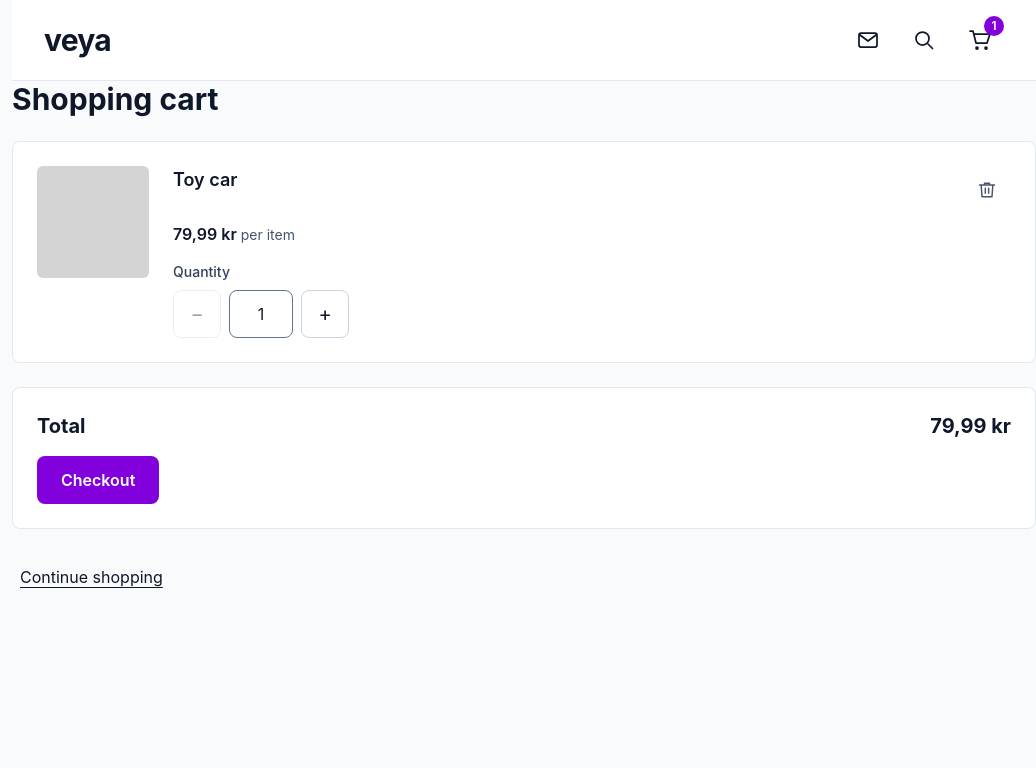
Test: updates the discounted total and header count when quantity changes or an item is removed
Step 1. Click the button named "Increase quantity for Toy car" → point(325, 314), box x1=301 y1=290 x2=349 y2=338
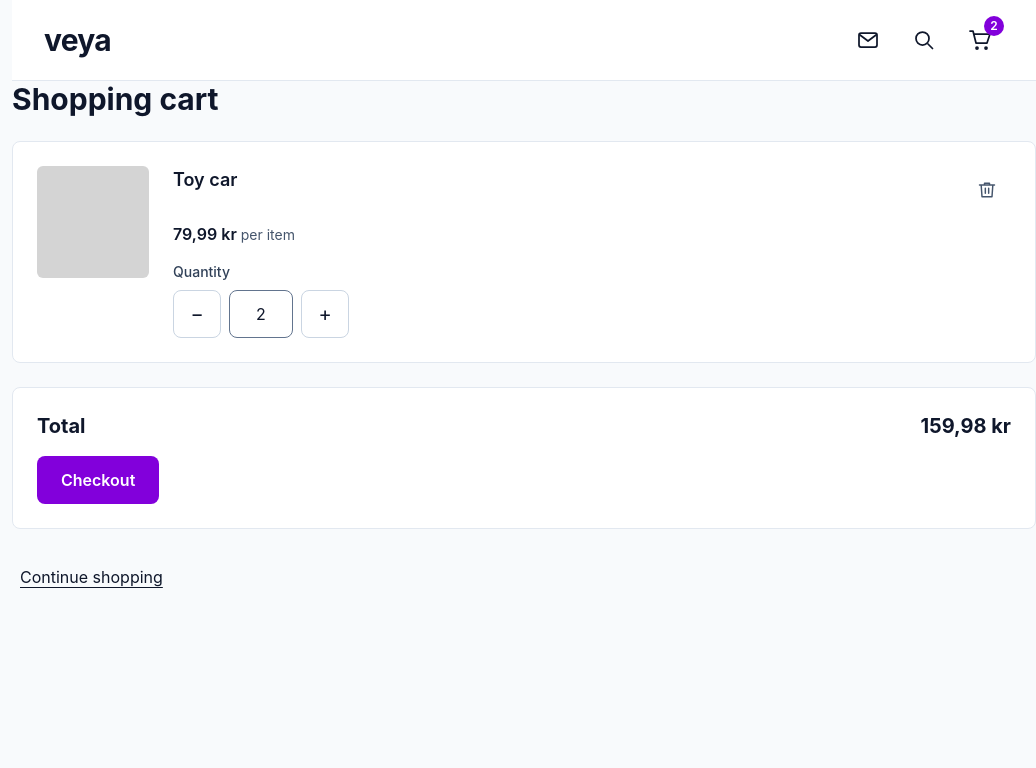
Check: the link named "View cart, 2 items" reads "2", box x1=968 y1=16 x2=1004 y2=52
Check: the text "159,98 kr" is shown, box x1=921 y1=412 x2=1011 y2=440
Step 2. Click the button named "Decrease quantity for Toy car" → point(197, 314), box x1=173 y1=290 x2=221 y2=338
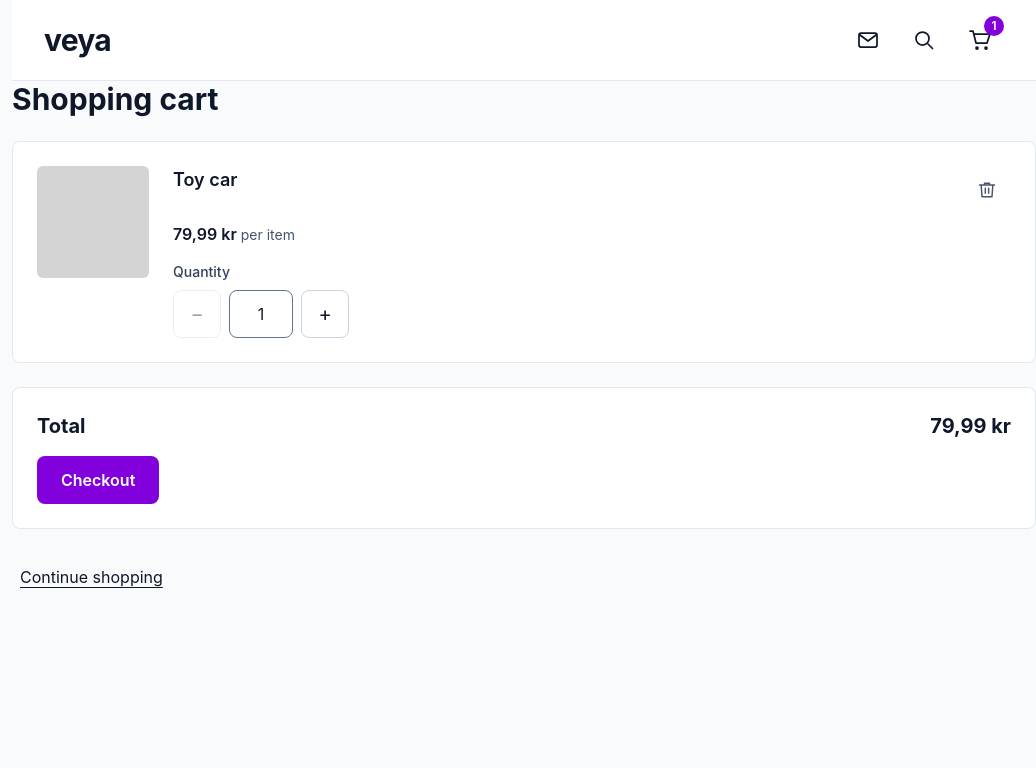
Check: the link named "View cart, 1 item" is shown, box x1=968 y1=16 x2=1004 y2=52
Step 3. Click the button named "Remove Toy car from cart" → point(987, 190), box x1=963 y1=166 x2=1011 y2=214
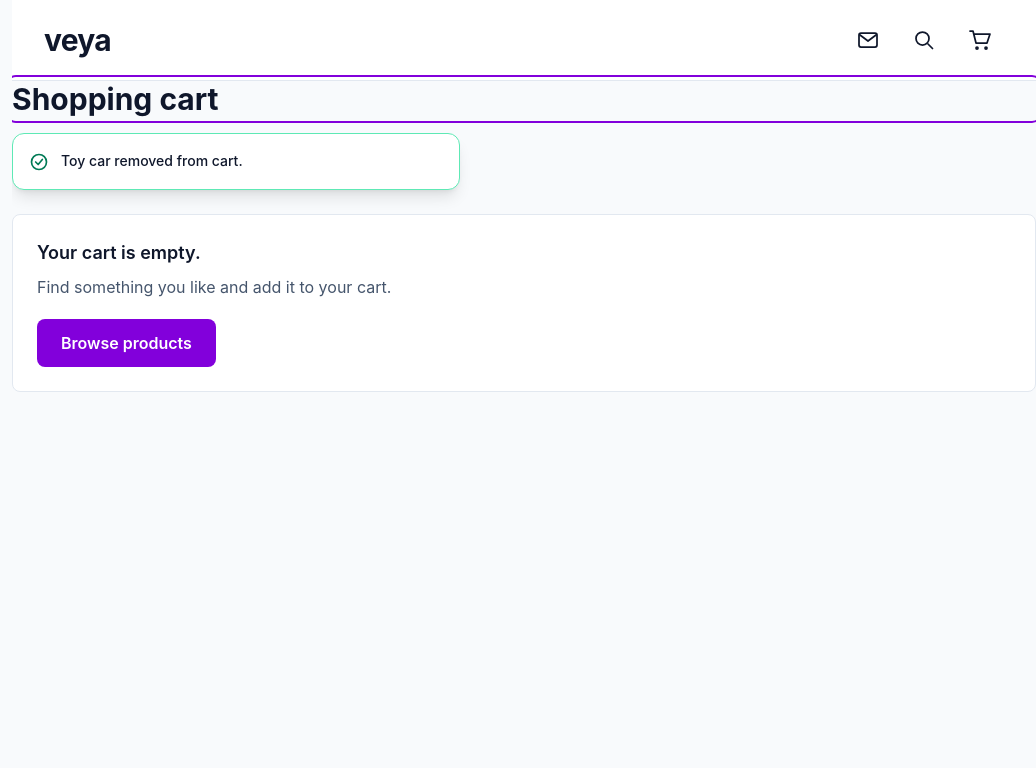
Check: the text "Your cart is empty." is shown, box x1=37 y1=242 x2=201 y2=263
Check: the link named "View cart, 0 items" is shown, box x1=968 y1=28 x2=992 y2=52
